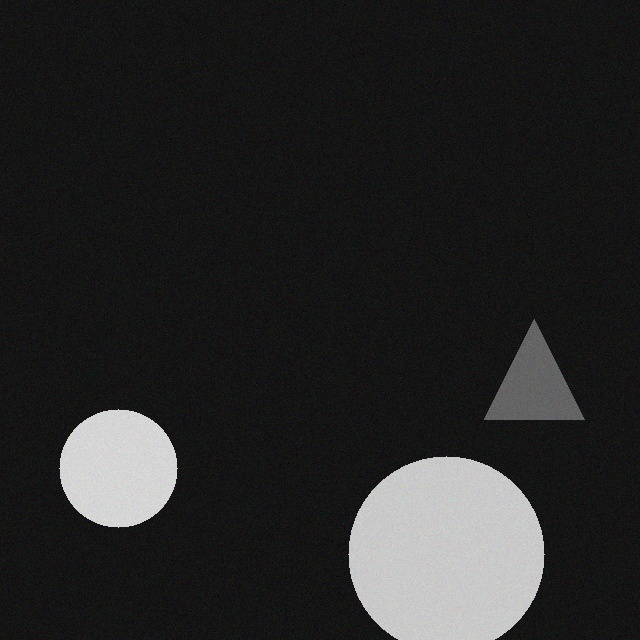circle: (351, 443, 547, 639), (62, 396, 180, 514)
triangle: (487, 306, 587, 406)
